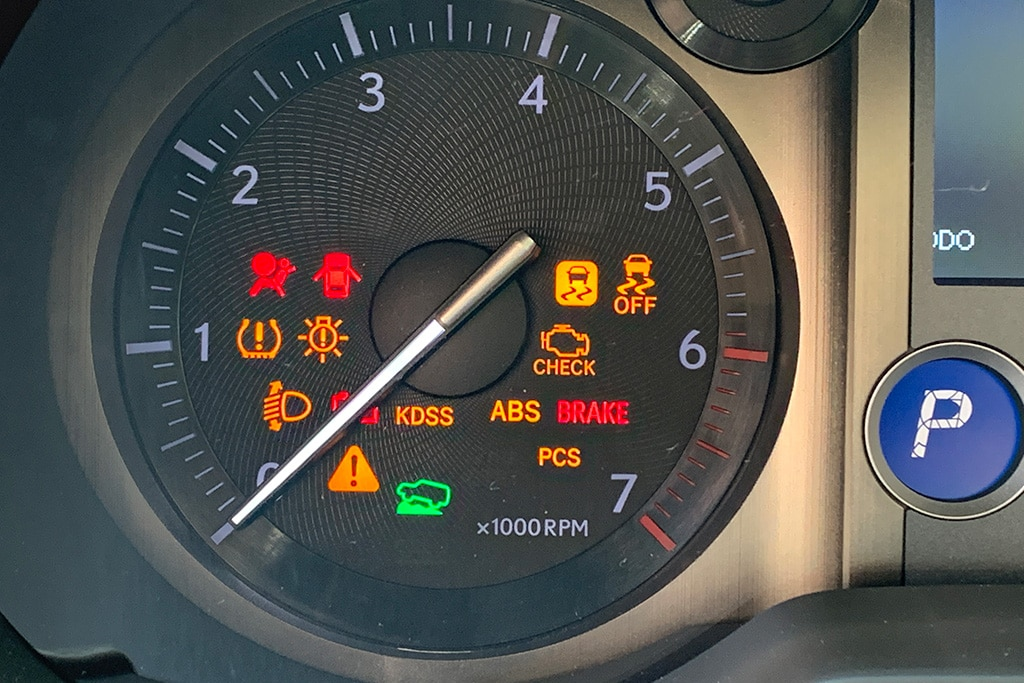ABS: (485, 397, 545, 429)
